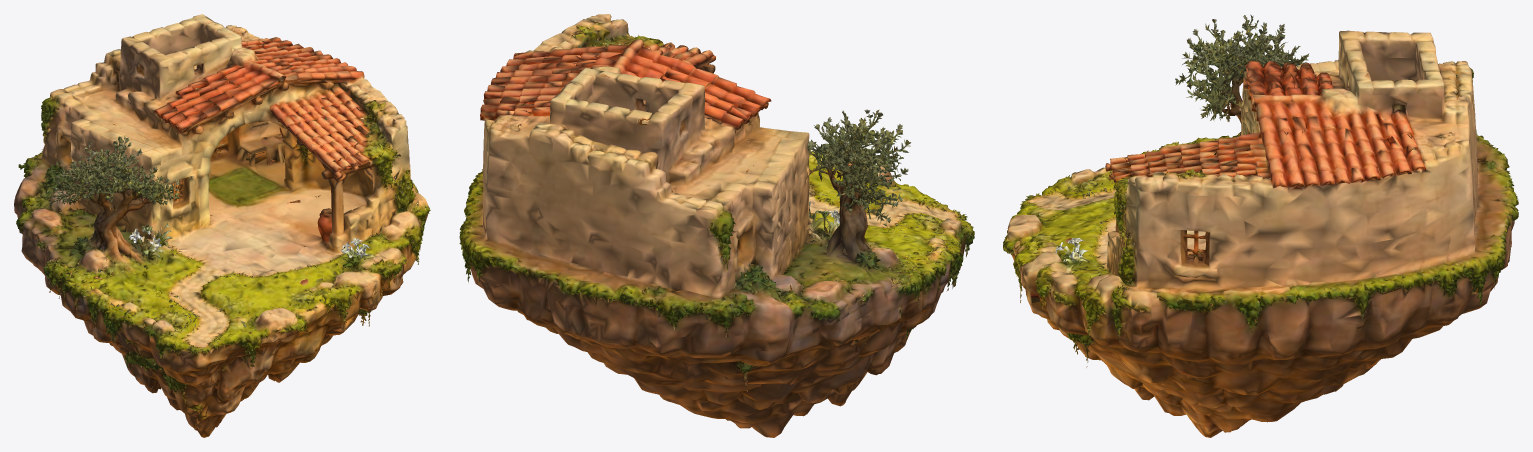
Rendered from week2.glb.
The picture shows the model from 3 angles, left to right: view 1: azimuth 30°, elevation 25°; view 2: azimuth 150°, elevation 25°; view 3: azimuth 270°, elevation 25°; orthographic projection. The views are drawn at different scales.
Visible parts, largest first — view 1: tripo_node_8abade39-0ffb-41f5-b8b7-17bd60fa2e10; view 2: tripo_node_8abade39-0ffb-41f5-b8b7-17bd60fa2e10; view 3: tripo_node_8abade39-0ffb-41f5-b8b7-17bd60fa2e10.
Boxes of the visible parts, x1,y1,x2,y2 form: tripo_node_8abade39-0ffb-41f5-b8b7-17bd60fa2e10: (14, 14, 430, 437); tripo_node_8abade39-0ffb-41f5-b8b7-17bd60fa2e10: (459, 14, 974, 437); tripo_node_8abade39-0ffb-41f5-b8b7-17bd60fa2e10: (1003, 14, 1518, 437).
Bounding box in the file's own units: 0.9528 × 0.8706 × 0.9986.
1 material, 1 textured.
